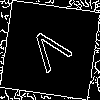V: (25, 25, 79, 81)
